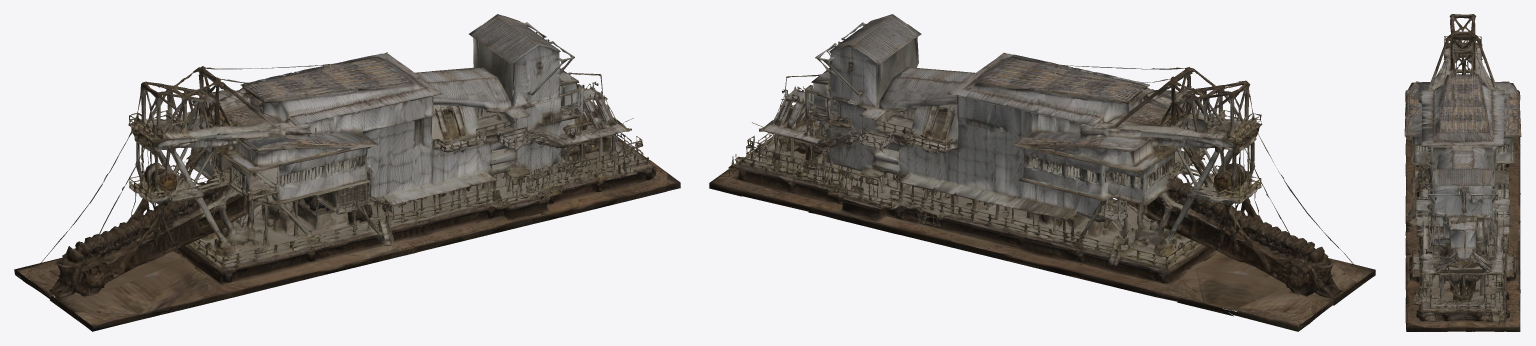
The model's file is tin_dredge.glb.
The picture shows the model from 3 angles, left to right: view 1: azimuth 30°, elevation 25°; view 2: azimuth 150°, elevation 25°; view 3: azimuth 270°, elevation 25°; orthographic projection. The views are drawn at different scales.
Parts seen in each view (by area): view 1: Meshy_AI_Rustbound_Excavator_S_0813183402_texture.001; view 2: Meshy_AI_Rustbound_Excavator_S_0813183402_texture.001; view 3: Meshy_AI_Rustbound_Excavator_S_0813183402_texture.001.
Boxes of the visible parts, x1=… form: Meshy_AI_Rustbound_Excavator_S_0813183402_texture.001: x1=14, y1=14, x2=680, y2=331; Meshy_AI_Rustbound_Excavator_S_0813183402_texture.001: x1=709, y1=14, x2=1375, y2=331; Meshy_AI_Rustbound_Excavator_S_0813183402_texture.001: x1=1404, y1=14, x2=1521, y2=331.
Size of the model in its own units: 1.9 by 0.5993 by 0.4446.
1 material, 1 textured.
